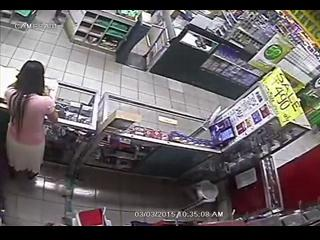Normal: (4, 60, 58, 180)
